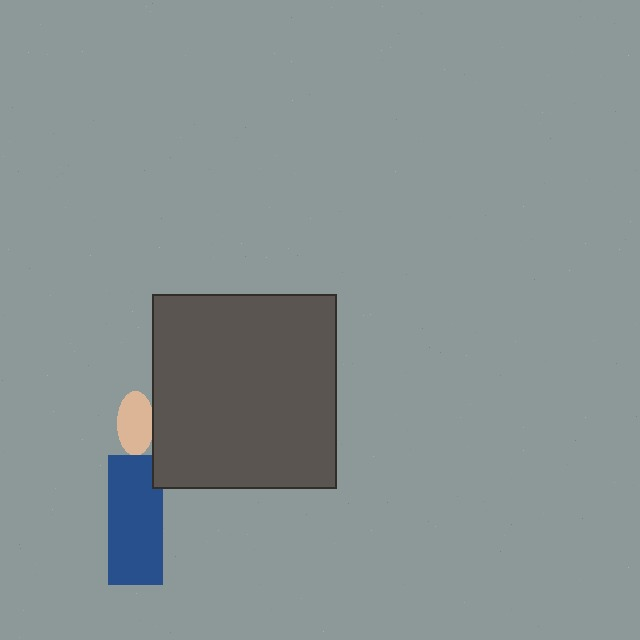concrete_damage: (152, 294, 336, 488)
person: (82, 391, 189, 584)
